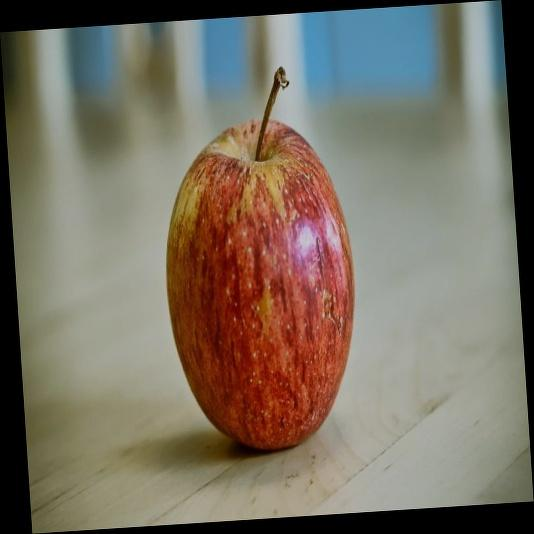red apple: (168, 115, 358, 450)
